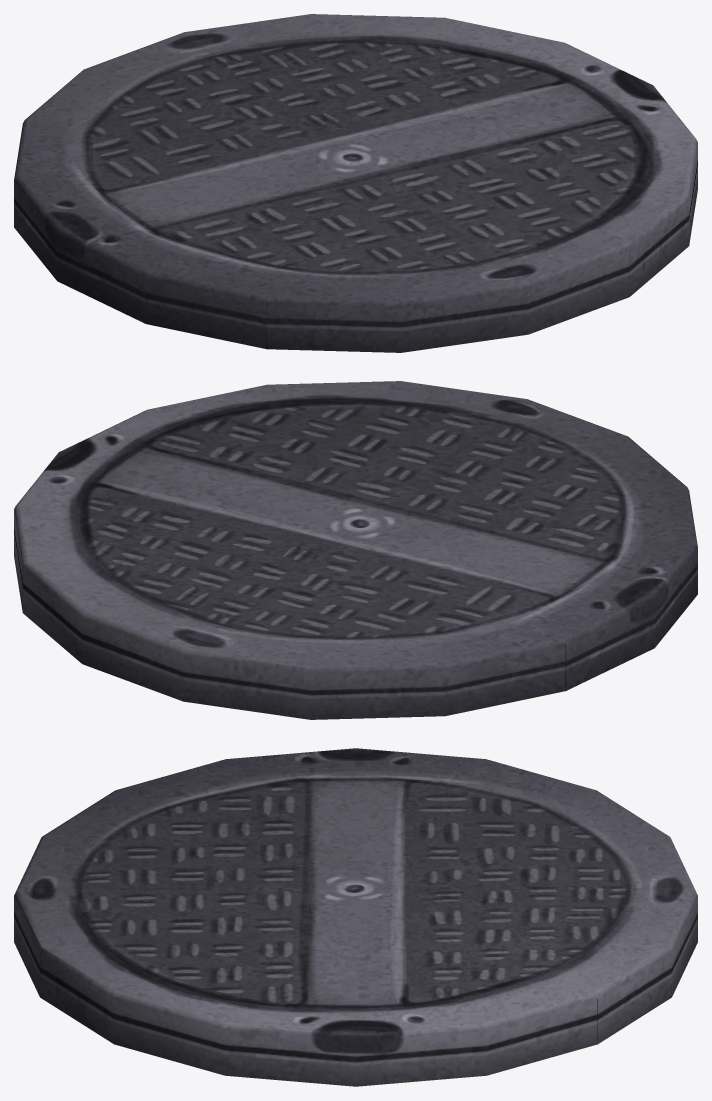
File: static.Manhole.glb
3 views of the same model, one above another, from view 1: azimuth 30°, elevation 25°; view 2: azimuth 150°, elevation 25°; view 3: azimuth 270°, elevation 25° (orthographic).
Parts seen in each view (by area): view 1: static.Manhole; view 2: static.Manhole; view 3: static.Manhole.
Part boxes in pixels (box(x1,y1,x2,y2)): static.Manhole: box(14, 14, 697, 352); static.Manhole: box(14, 381, 697, 719); static.Manhole: box(14, 748, 697, 1086).
Bounding box in the file's own units: 1.2 × 0.1 × 1.2.
1 material, 1 textured.
